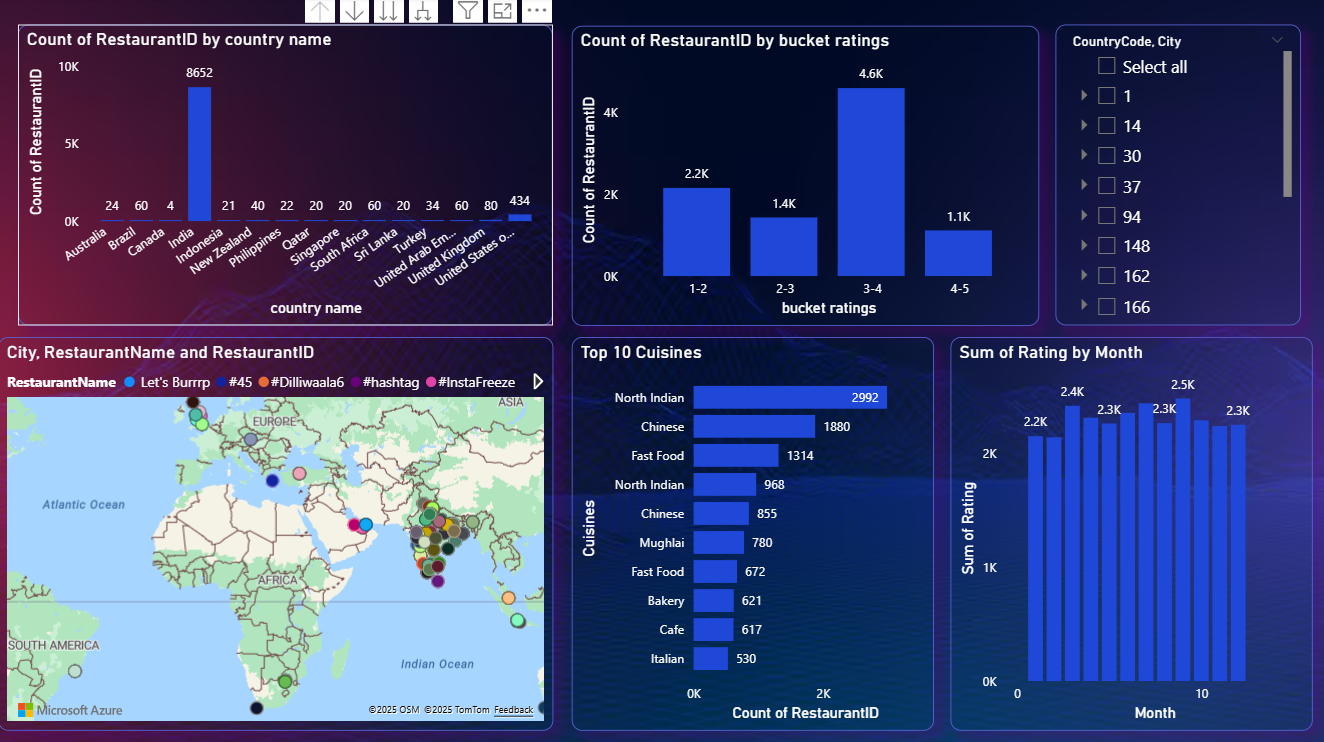

Layout of this report page (visuals, bound fields, positions):
{"tool":"powerbi","page":{"name":"Page 2","canvas":[1280,720],"ordinal":1},"visuals":[{"type":"columnChart","fields":{"Category":["Sheet2.country name","cuisines copy.City"],"Y":["CountNonNull(cuisines copy.RestaurantID)"]},"box":[19.3,26.5,516.4,290.8],"z":0},{"type":"clusteredColumnChart","fields":{"Category":["cuisines copy.bucket ratings"],"Y":["CountNonNull(cuisines copy.RestaurantID)"]},"box":[553.8,27.7,451.2,289.5],"z":1000},{"type":"clusteredColumnChart","fields":{"Y":["Sum(cuisines copy.Rating)"],"Category":["cuisines copy.Month"]},"box":[919.3,328.2,349.9,380],"z":3000},{"type":"slicer","title":"City by Country code","fields":{"Values":["cuisines copy.CountryCode","cuisines copy.City"]},"box":[1020.6,26.5,236.5,290.8],"z":4000},{"type":"azureMap","fields":{"Category":["Sheet1.City"],"Series":["Sheet1.RestaurantName"],"PathID":["Sheet1.RestaurantID"]},"box":[0,328.2,535.7,380],"z":5000},{"type":"barChart","title":" Top 10 Cuisines","fields":{"Y":["CountNonNull(Sheet1.RestaurantID)"],"Category":["Sheet1.Cuisines"]},"box":[553.8,328.2,349.9,380],"z":5001}]}

Visuals, with their boxes on the page's 1280x720 design canvas (x1, y1, x2, y2). These are canvas units, not pixel positions in the 1324x742 screenshot, which may show the page scaled, cropped or inside an application window:
columnChart - Sheet2.country name x cuisines copy.City: bbox=(19, 26, 536, 317)
clusteredColumnChart - cuisines copy.bucket ratings x CountNonNull(cuisines copy.RestaurantID): bbox=(554, 28, 1005, 317)
clusteredColumnChart - Sum(cuisines copy.Rating) x cuisines copy.Month: bbox=(919, 328, 1269, 708)
"City by Country code" slicer: bbox=(1021, 26, 1257, 317)
azureMap - Sheet1.City x Sheet1.RestaurantName: bbox=(0, 328, 536, 708)
" Top 10 Cuisines" barChart: bbox=(554, 328, 904, 708)
